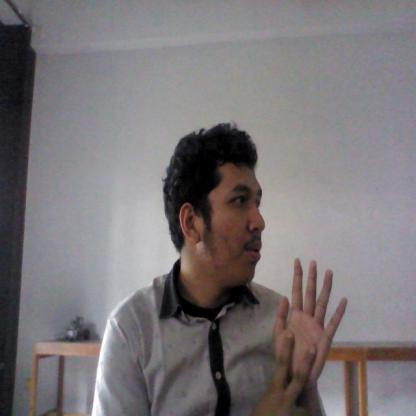N: (262, 249, 354, 415)
